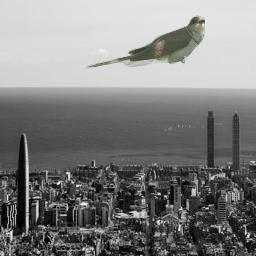Cuckoo: (85, 15, 205, 70)
